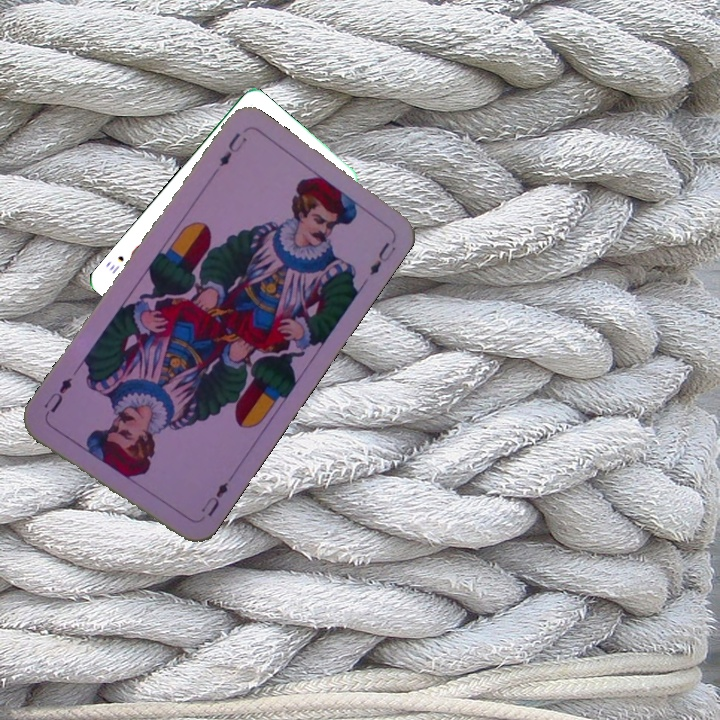EU: (196, 477, 231, 519), (215, 128, 250, 170)
